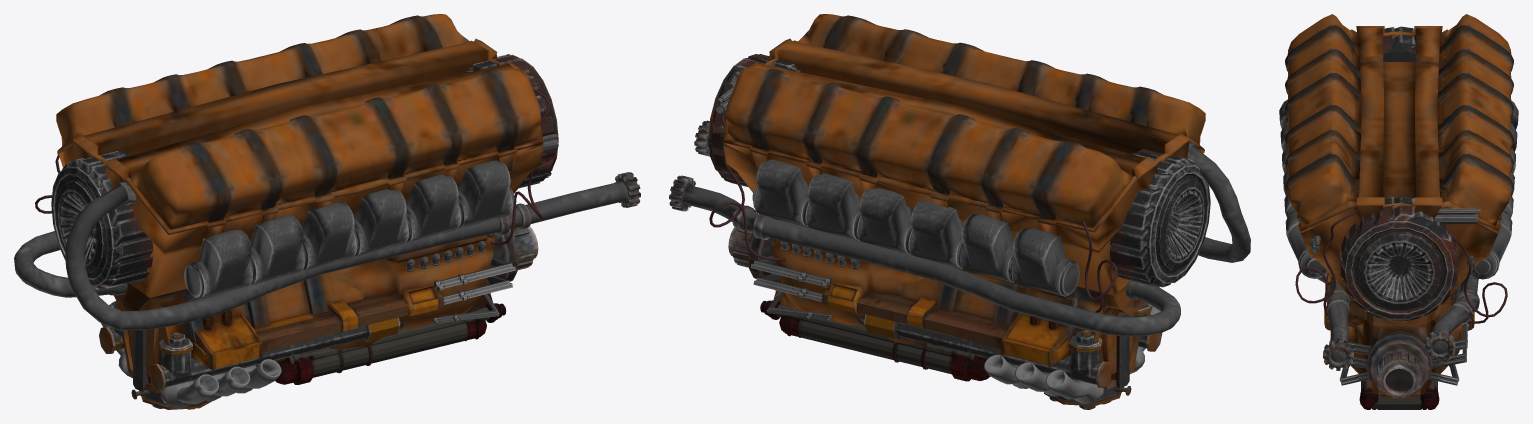
File: eng-m-i4-1000.glb
3 views of the same model, side by side, from view 1: azimuth 30°, elevation 25°; view 2: azimuth 150°, elevation 25°; view 3: azimuth 270°, elevation 25° (orthographic). The views are drawn at different scales.
Visible parts, largest first — view 1: polySurface299_bok1_0; view 2: polySurface299_bok1_0; view 3: polySurface299_bok1_0.
Boxes of the visible parts, x1=… form: polySurface299_bok1_0: x1=14, y1=14, x2=640, y2=409; polySurface299_bok1_0: x1=669, y1=14, x2=1250, y2=409; polySurface299_bok1_0: x1=1279, y1=14, x2=1518, y2=409.
Size of the model in its own units: 22.74 by 11.33 by 9.53.
Materials: 13 (13 with a texture image).
